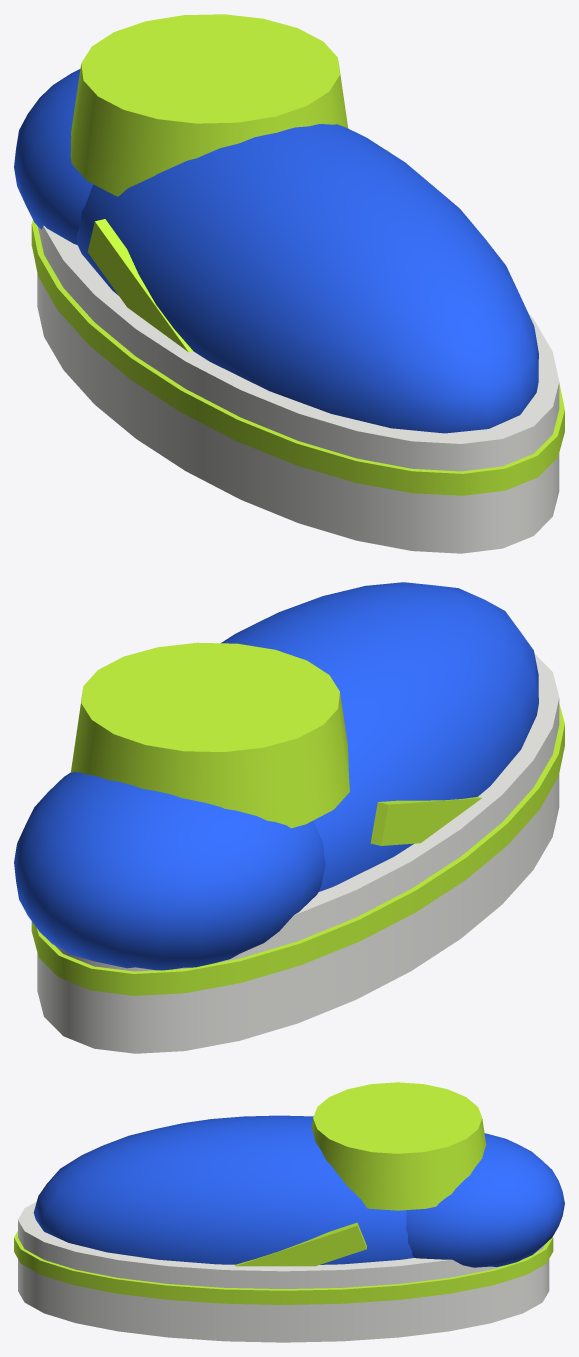
File: shoes_racer_male.glb
The picture shows the model from 3 angles, top to bottom: view 1: azimuth 30°, elevation 25°; view 2: azimuth 150°, elevation 25°; view 3: azimuth 270°, elevation 25°; orthographic projection. The views are drawn at different scales.
Visible parts, largest first — view 1: upper, sole, collar, plate, heel_counter, swoosh; view 2: upper, heel_counter, sole, collar, plate, swoosh; view 3: upper, sole, collar, heel_counter, plate, swoosh.
Boxes of the visible parts, x1=… form: upper: x1=77, y1=124, x2=538, y2=433; sole: x1=37, y1=225, x2=559, y2=553; collar: x1=70, y1=14, x2=348, y2=196; plate: x1=31, y1=220, x2=564, y2=495; heel_counter: x1=14, y1=69, x2=93, y2=244; swoosh: x1=87, y1=219, x2=193, y2=352; upper: x1=221, y1=582, x2=538, y2=892; heel_counter: x1=14, y1=771, x2=325, y2=970; sole: x1=37, y1=654, x2=559, y2=1053; collar: x1=71, y1=642, x2=349, y2=828; plate: x1=31, y1=704, x2=564, y2=995; swoosh: x1=370, y1=797, x2=481, y2=845; upper: x1=33, y1=1115, x2=413, y2=1264; sole: x1=18, y1=1202, x2=549, y2=1342; collar: x1=311, y1=1082, x2=486, y2=1210; heel_counter: x1=406, y1=1133, x2=564, y2=1267; plate: x1=14, y1=1231, x2=553, y2=1304; swoosh: x1=235, y1=1222, x2=366, y2=1266.
Bounding box in the file's own units: 0.128 × 0.101 × 0.28.
